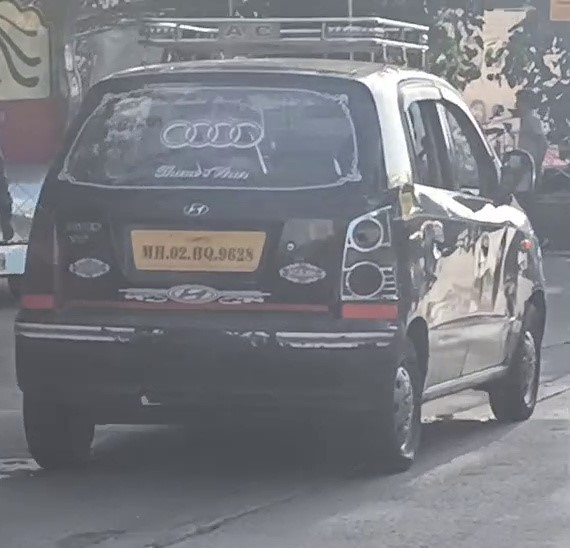MH02BQ9628: (128, 231, 266, 273)
